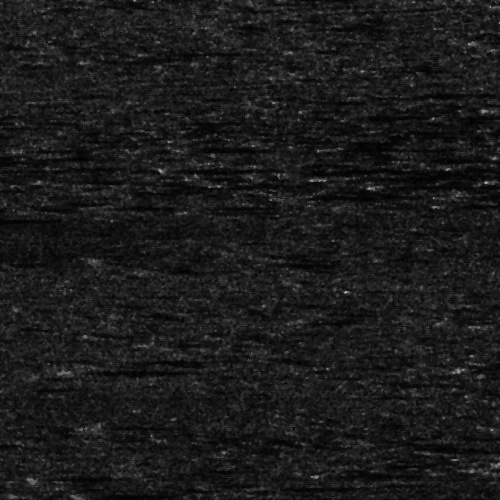object: (444, 188, 500, 197), (39, 367, 122, 372), (471, 175, 500, 182), (484, 251, 500, 262)
shadow: (80, 367, 222, 372), (0, 215, 52, 220), (476, 188, 500, 197), (0, 201, 19, 212)
